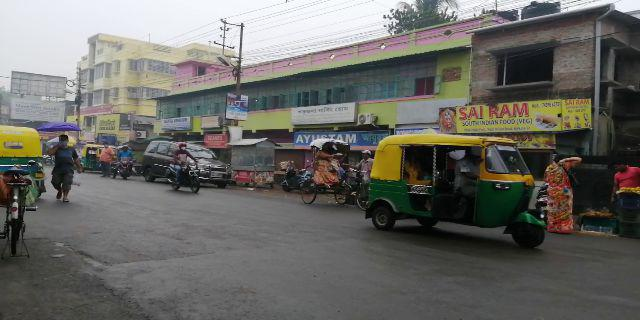Autorickshaw: (363, 134, 548, 241)
Car: (144, 135, 227, 185)
Cycle: (3, 161, 31, 266)
Motorbike: (165, 141, 205, 194)
Truck: (1, 125, 54, 201)
